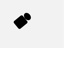human: (12, 11, 34, 29)
